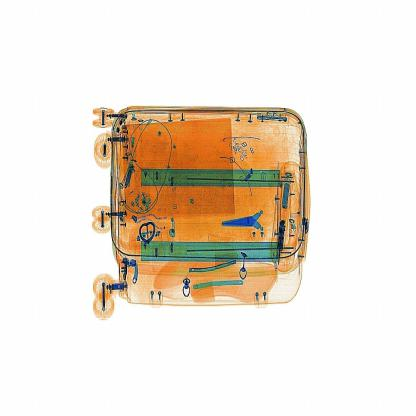gun: (220, 200, 287, 247)
